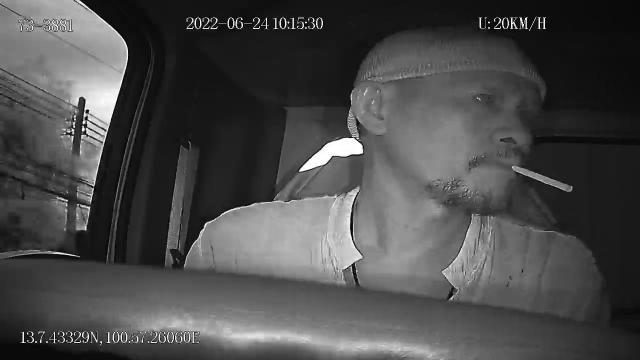SafeDriving: (460, 80, 502, 112)
Smoking: (512, 160, 574, 194)
